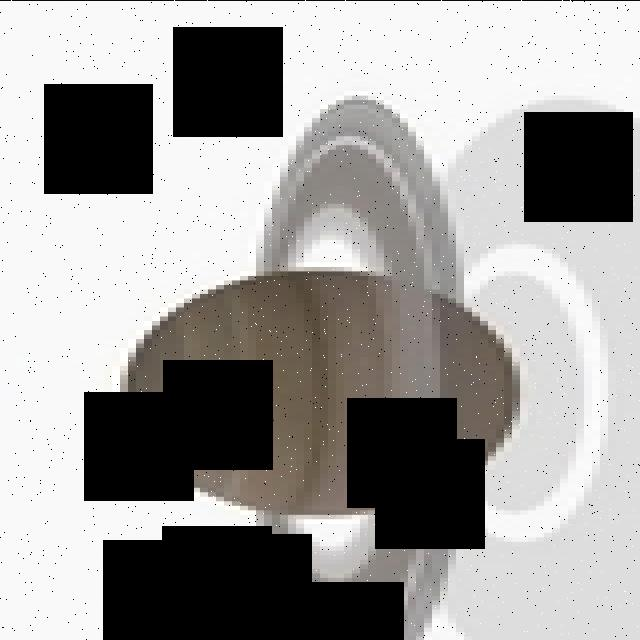Saturn: (112, 90, 520, 640)
